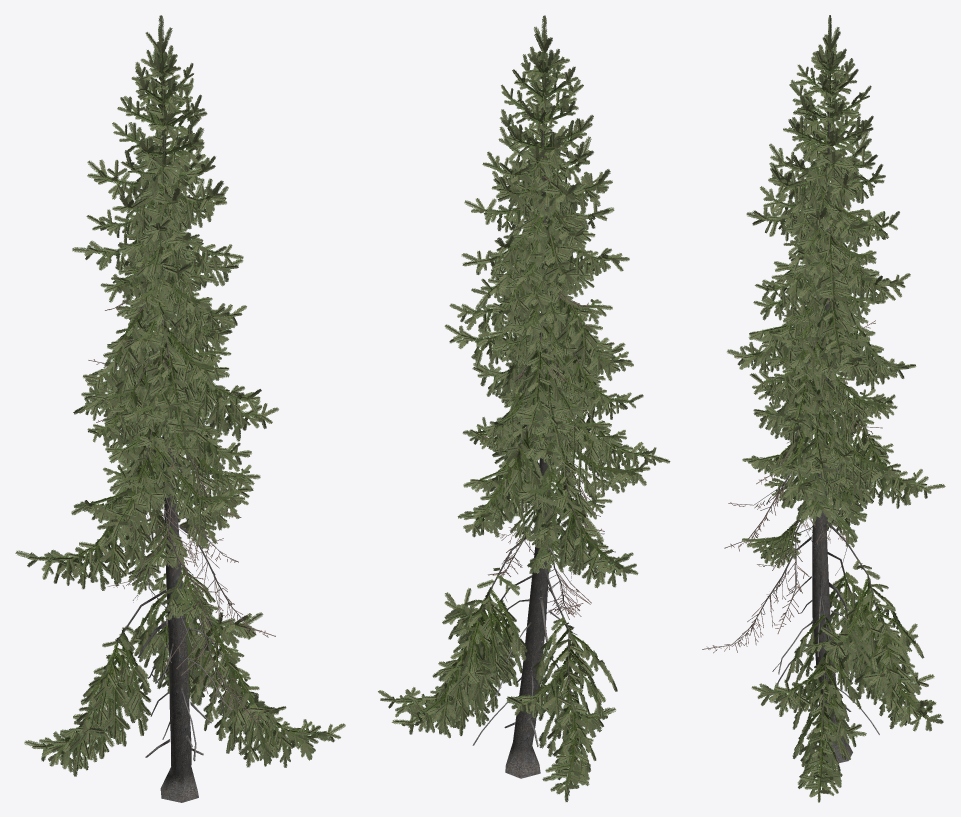
The model's file is Picea mariana HD_Arctic mat 100_LOD3.fbx.
3 renders of one model, left to right at view 1: azimuth 30°, elevation 25°; view 2: azimuth 150°, elevation 25°; view 3: azimuth 270°, elevation 25°, orthographic. The views are drawn at different scales.
Visible parts, largest first — view 1: Picea_mariana_HD; view 2: Picea_mariana_HD; view 3: Picea_mariana_HD.
Part boxes in pixels (x1,y1,x2,y2): Picea_mariana_HD: (15, 15, 345, 802); Picea_mariana_HD: (378, 15, 670, 801); Picea_mariana_HD: (702, 15, 945, 802).
Size of the model in its own units: 1.99 by 4.99 by 1.52.
Materials: 9 (8 with a texture image).
